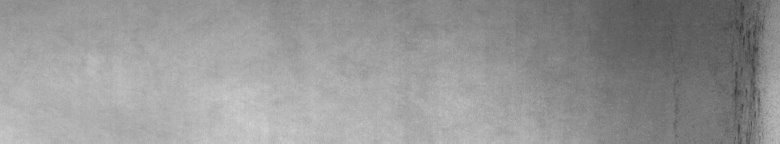ka: (673, 4, 768, 136)
